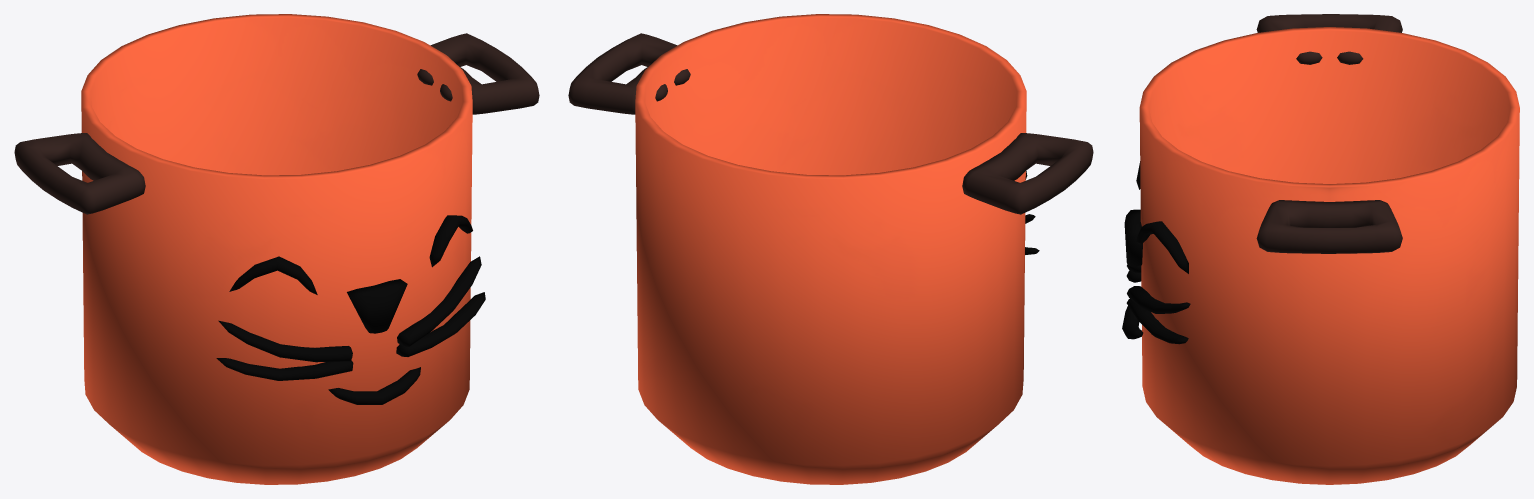
File: Panelao.fbx
The picture shows the model from 3 angles, left to right: view 1: azimuth 30°, elevation 25°; view 2: azimuth 150°, elevation 25°; view 3: azimuth 270°, elevation 25°; orthographic projection. The views are drawn at different scales.
Visible parts, largest first — view 1: Panelao; view 2: Panelao; view 3: Panelao.
Boxes of the visible parts, <box> form: Panelao: <box>14,14,539,484</box>; Panelao: <box>568,14,1093,484</box>; Panelao: <box>1122,14,1519,484</box>.
Size of the model in its own units: 86.11 by 56.62 by 64.57.
